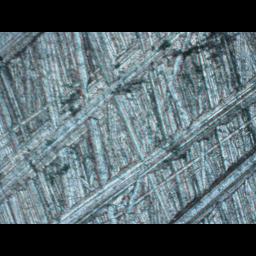d: (63, 75, 256, 223), (163, 145, 256, 223)
